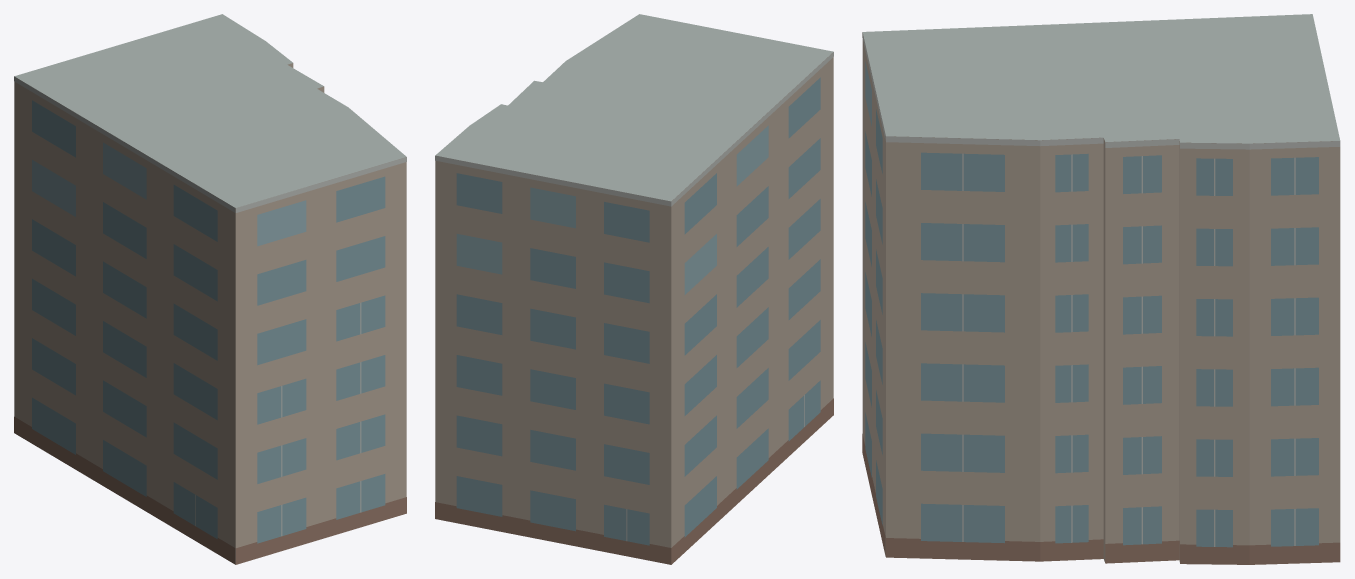
Rendered from survey-upis-32754611.glb.
The picture shows the model from 3 angles, left to right: view 1: azimuth 30°, elevation 25°; view 2: azimuth 150°, elevation 25°; view 3: azimuth 270°, elevation 25°; orthographic projection. The views are drawn at different scales.
Visible parts, largest first — view 1: survey-upis-32754611.tmp; view 2: survey-upis-32754611.tmp; view 3: survey-upis-32754611.tmp.
Boxes of the visible parts, <box> form: survey-upis-32754611.tmp: <box>14,14,406,564</box>; survey-upis-32754611.tmp: <box>435,14,833,564</box>; survey-upis-32754611.tmp: <box>862,14,1340,564</box>.
Bounding box in the file's own units: 11.35 × 17.2 × 17.69.
